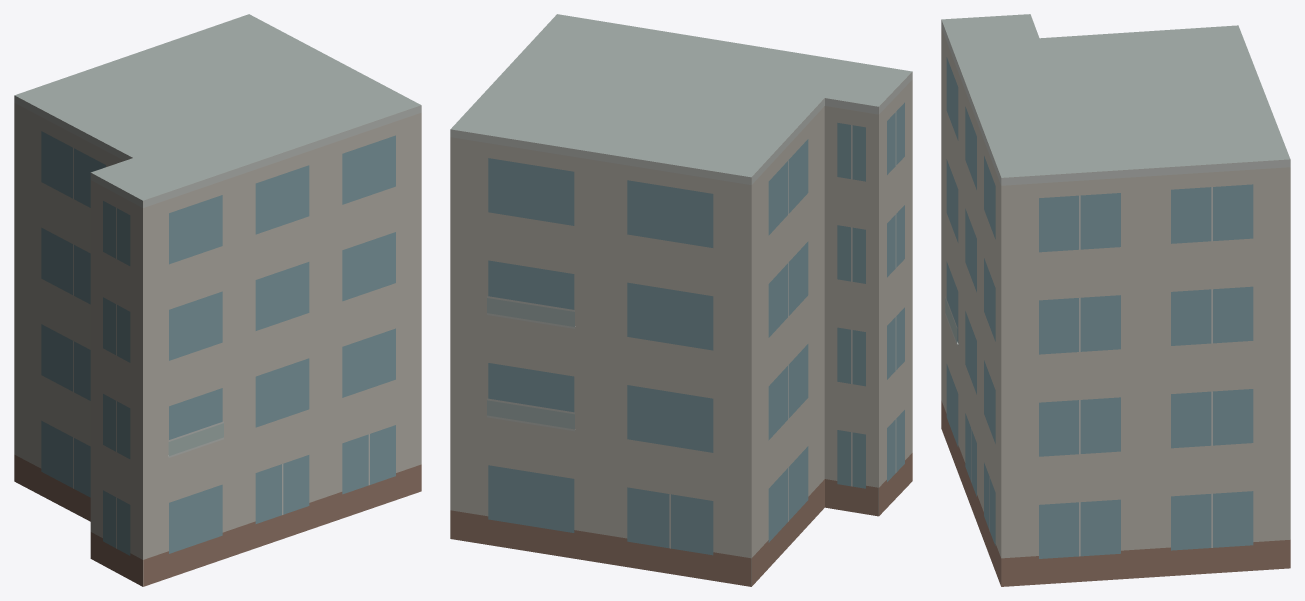
File: survey-upis-32979384.glb
The picture shows the model from 3 angles, left to right: view 1: azimuth 30°, elevation 25°; view 2: azimuth 150°, elevation 25°; view 3: azimuth 270°, elevation 25°; orthographic projection. The views are drawn at different scales.
Visible parts, largest first — view 1: survey-upis-32979384.tmp; view 2: survey-upis-32979384.tmp; view 3: survey-upis-32979384.tmp.
Part boxes in pixels (x1,y1,x2,y2): survey-upis-32979384.tmp: (14, 14, 421, 586); survey-upis-32979384.tmp: (450, 14, 912, 586); survey-upis-32979384.tmp: (941, 14, 1290, 586).
Bounding box in the file's own units: 10.93 × 12.7 × 9.84.
